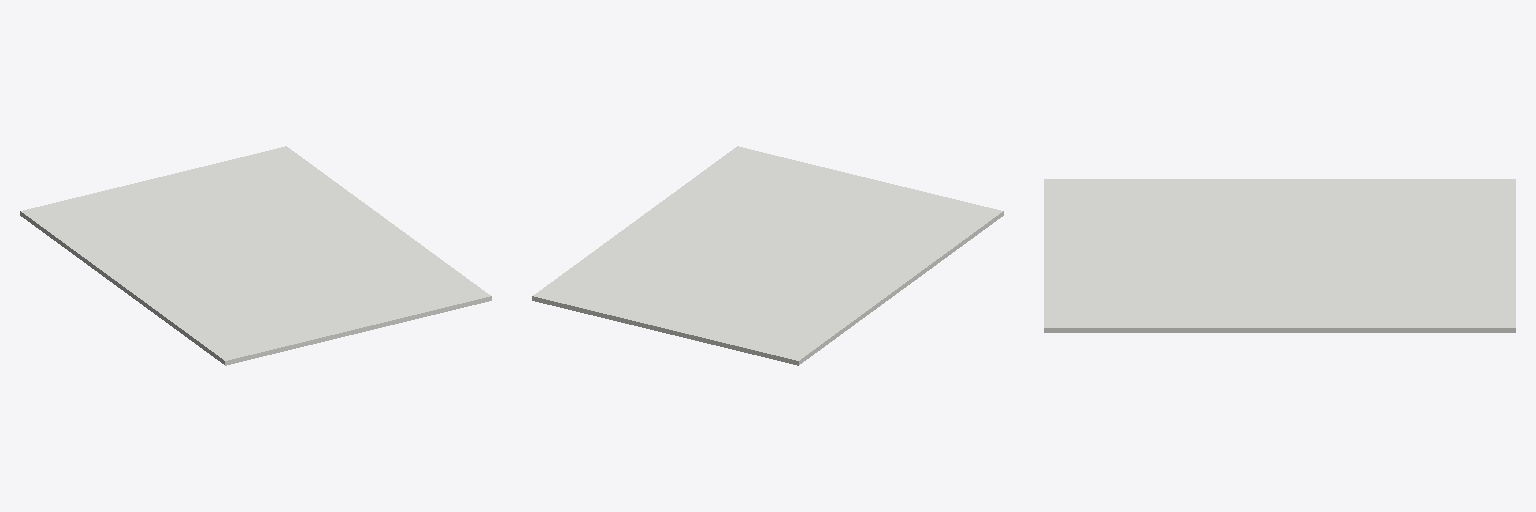
The robot description file, URDF, robot "charuco_4x4_5x7":
<?xml version="1.0"?>
<!-- 자동 생성: ArUco/ChArUco 마커 (charuco_4x4_5x7). 흰 판과 검은 칸 두 메시. 좌표계는 Core/include/CMarker/Marker.h 참고. 단위 m -->
<robot name="charuco_4x4_5x7">
  <material name="marker_paper"><color rgba="0.93 0.93 0.91 1"/></material>
  <material name="marker_ink"><color rgba="0.03 0.03 0.03 1"/></material>
  <link name="marker">
    <visual><geometry><mesh filename="charuco_4x4_5x7_plate.stl"/></geometry><material name="marker_paper"/></visual>
    <visual><geometry><mesh filename="charuco_4x4_5x7_ink.stl"/></geometry><material name="marker_ink"/></visual>
  </link>
</robot>

--- Facts derived from the render (not from the file) ---
Views: 3 orthographic renders of the robot side by side, from view 1: azimuth 30°, elevation 25°; view 2: azimuth 150°, elevation 25°; view 3: azimuth 270°, elevation 25°.
Model charuco_4x4_5x7 with 1 links and 0 joints (none), rooted at marker, posed all joints at 0.
Visible links, largest first — view 1: marker; view 2: marker; view 3: marker.
Boxes of the visible links, x1,y1,x2,y2 form: marker: (20,146,491,365); marker: (532,146,1003,365); marker: (1044,179,1515,332).
Size in the robot's own frame: 0.24 by 0.32 by 0.0044 metres.
2 mesh visuals loaded from 2 distinct referenced files (2 binary STL).
